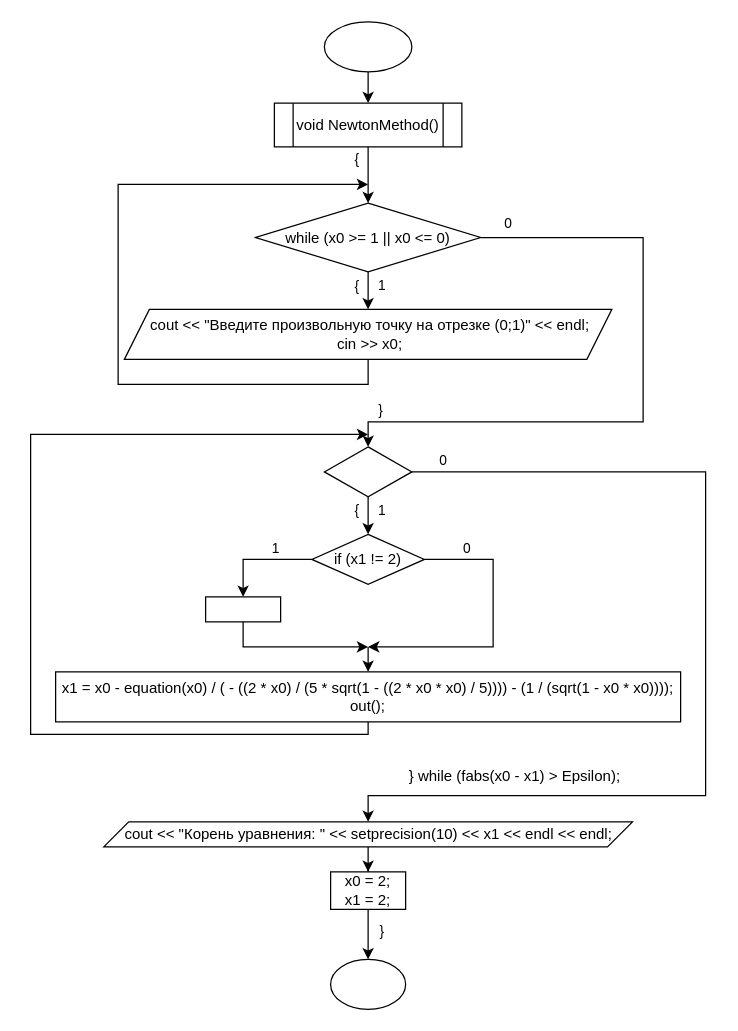
This 738x1031 diagram has some shape labels left out. The centre of each missing label's shape, as x and y in pixels:
"do" belongs at point 367,471.
"x0 = x1;" belongs at point 242,609.
"Конец" belongs at point 367,983.
"Начало" belongs at point 367,46.
